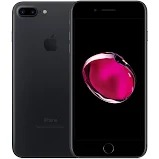iphone: (70, 1, 147, 159)
iphone7: (69, 1, 146, 159)
